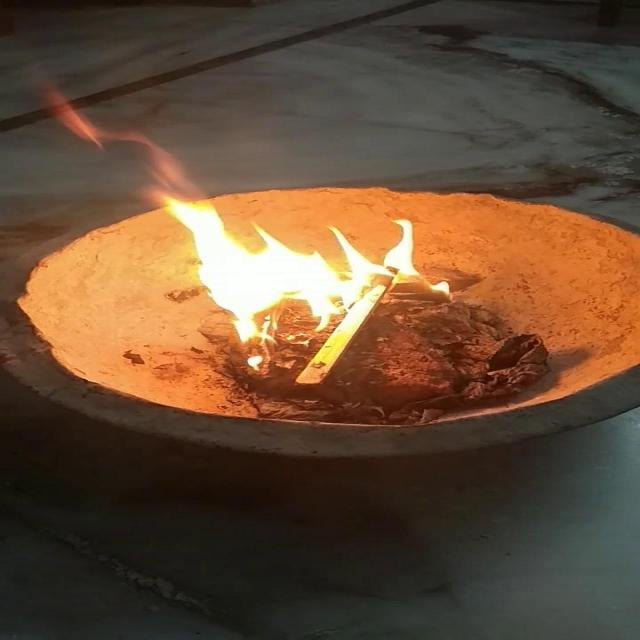fire: (110, 145, 444, 342)
